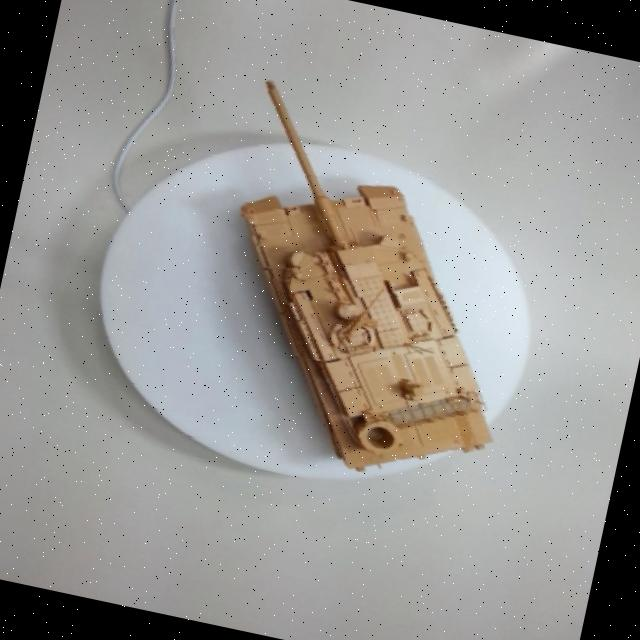korea tank: (165, 64, 562, 542)
